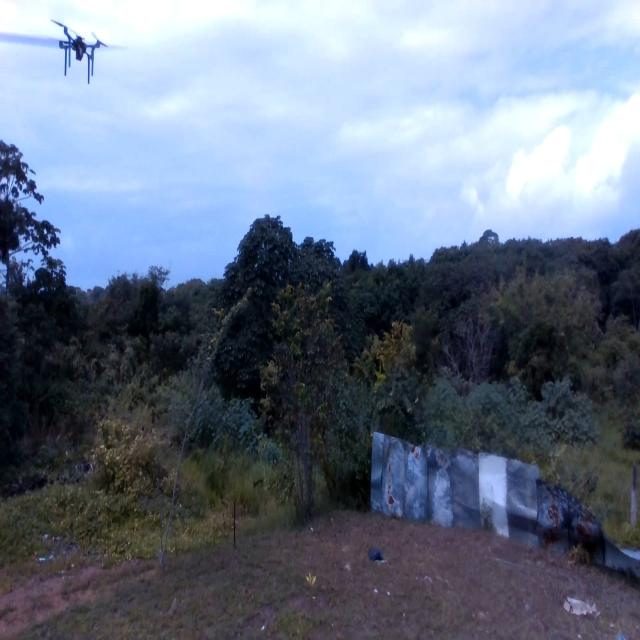-uav-: (42, 8, 117, 94)
